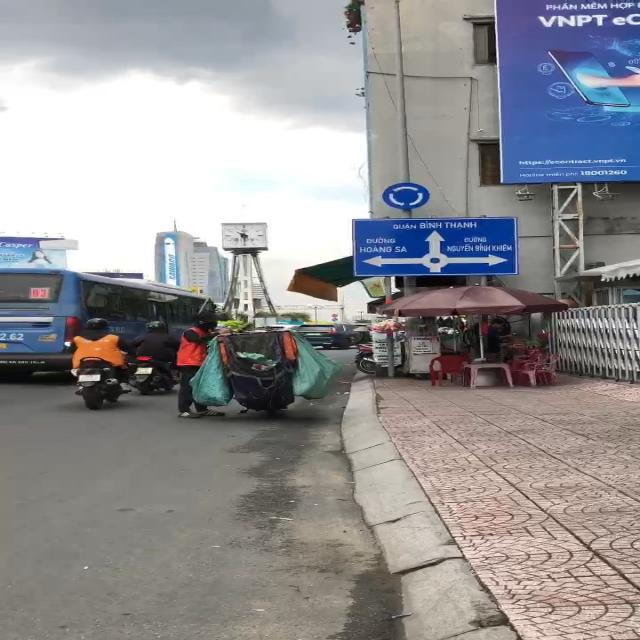Bien bao noi giao nhau chay theo vong xuyen: (377, 182, 435, 213)
